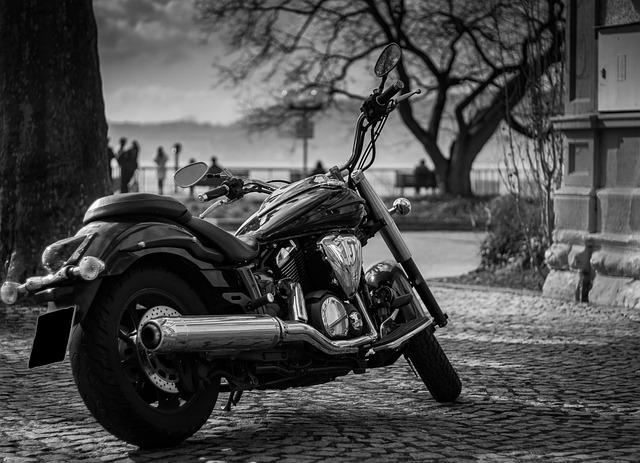Non_Gorille: (24, 30, 625, 449)
